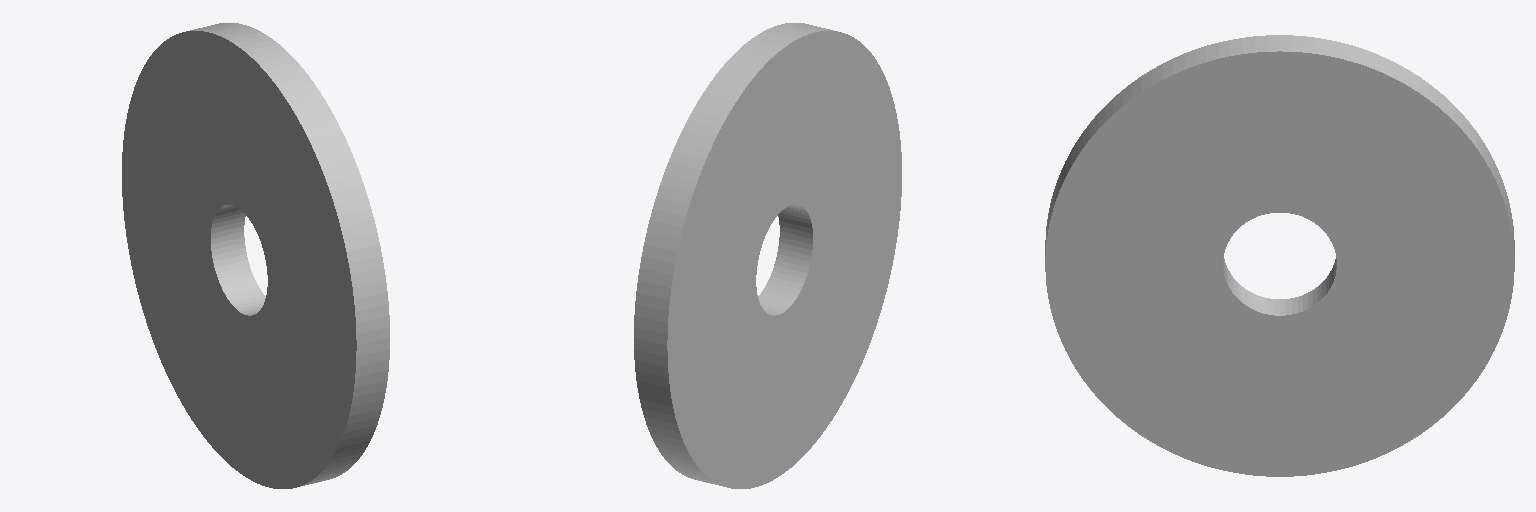
The model's file is RoundObstacle.obj.
The picture shows the model from 3 angles: view 1: azimuth 30°, elevation 25°; view 2: azimuth 150°, elevation 25°; view 3: azimuth 270°, elevation 25°; orthographic projection.
Parts seen in each view (by area): view 1: polySurface1; view 2: polySurface1; view 3: polySurface1.
Boxes of the visible parts, x1=… form: polySurface1: x1=122, y1=23, x2=389, y2=488; polySurface1: x1=634, y1=23, x2=901, y2=488; polySurface1: x1=1045, y1=35, x2=1514, y2=476.
Bounding box in the file's own units: 1.77 × 21.45 × 21.45.